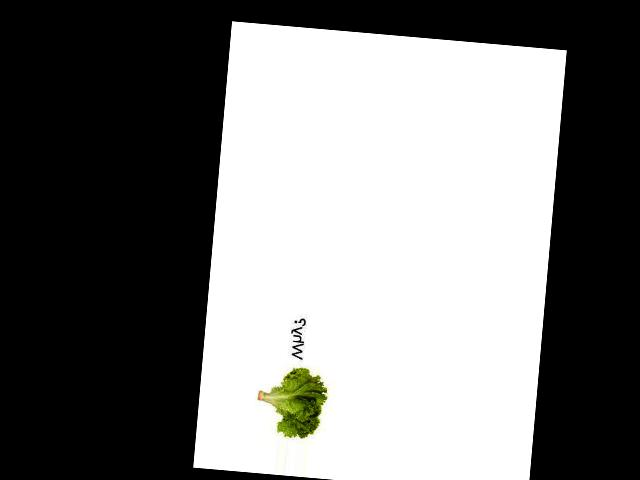lettuce: (248, 323, 338, 443)
